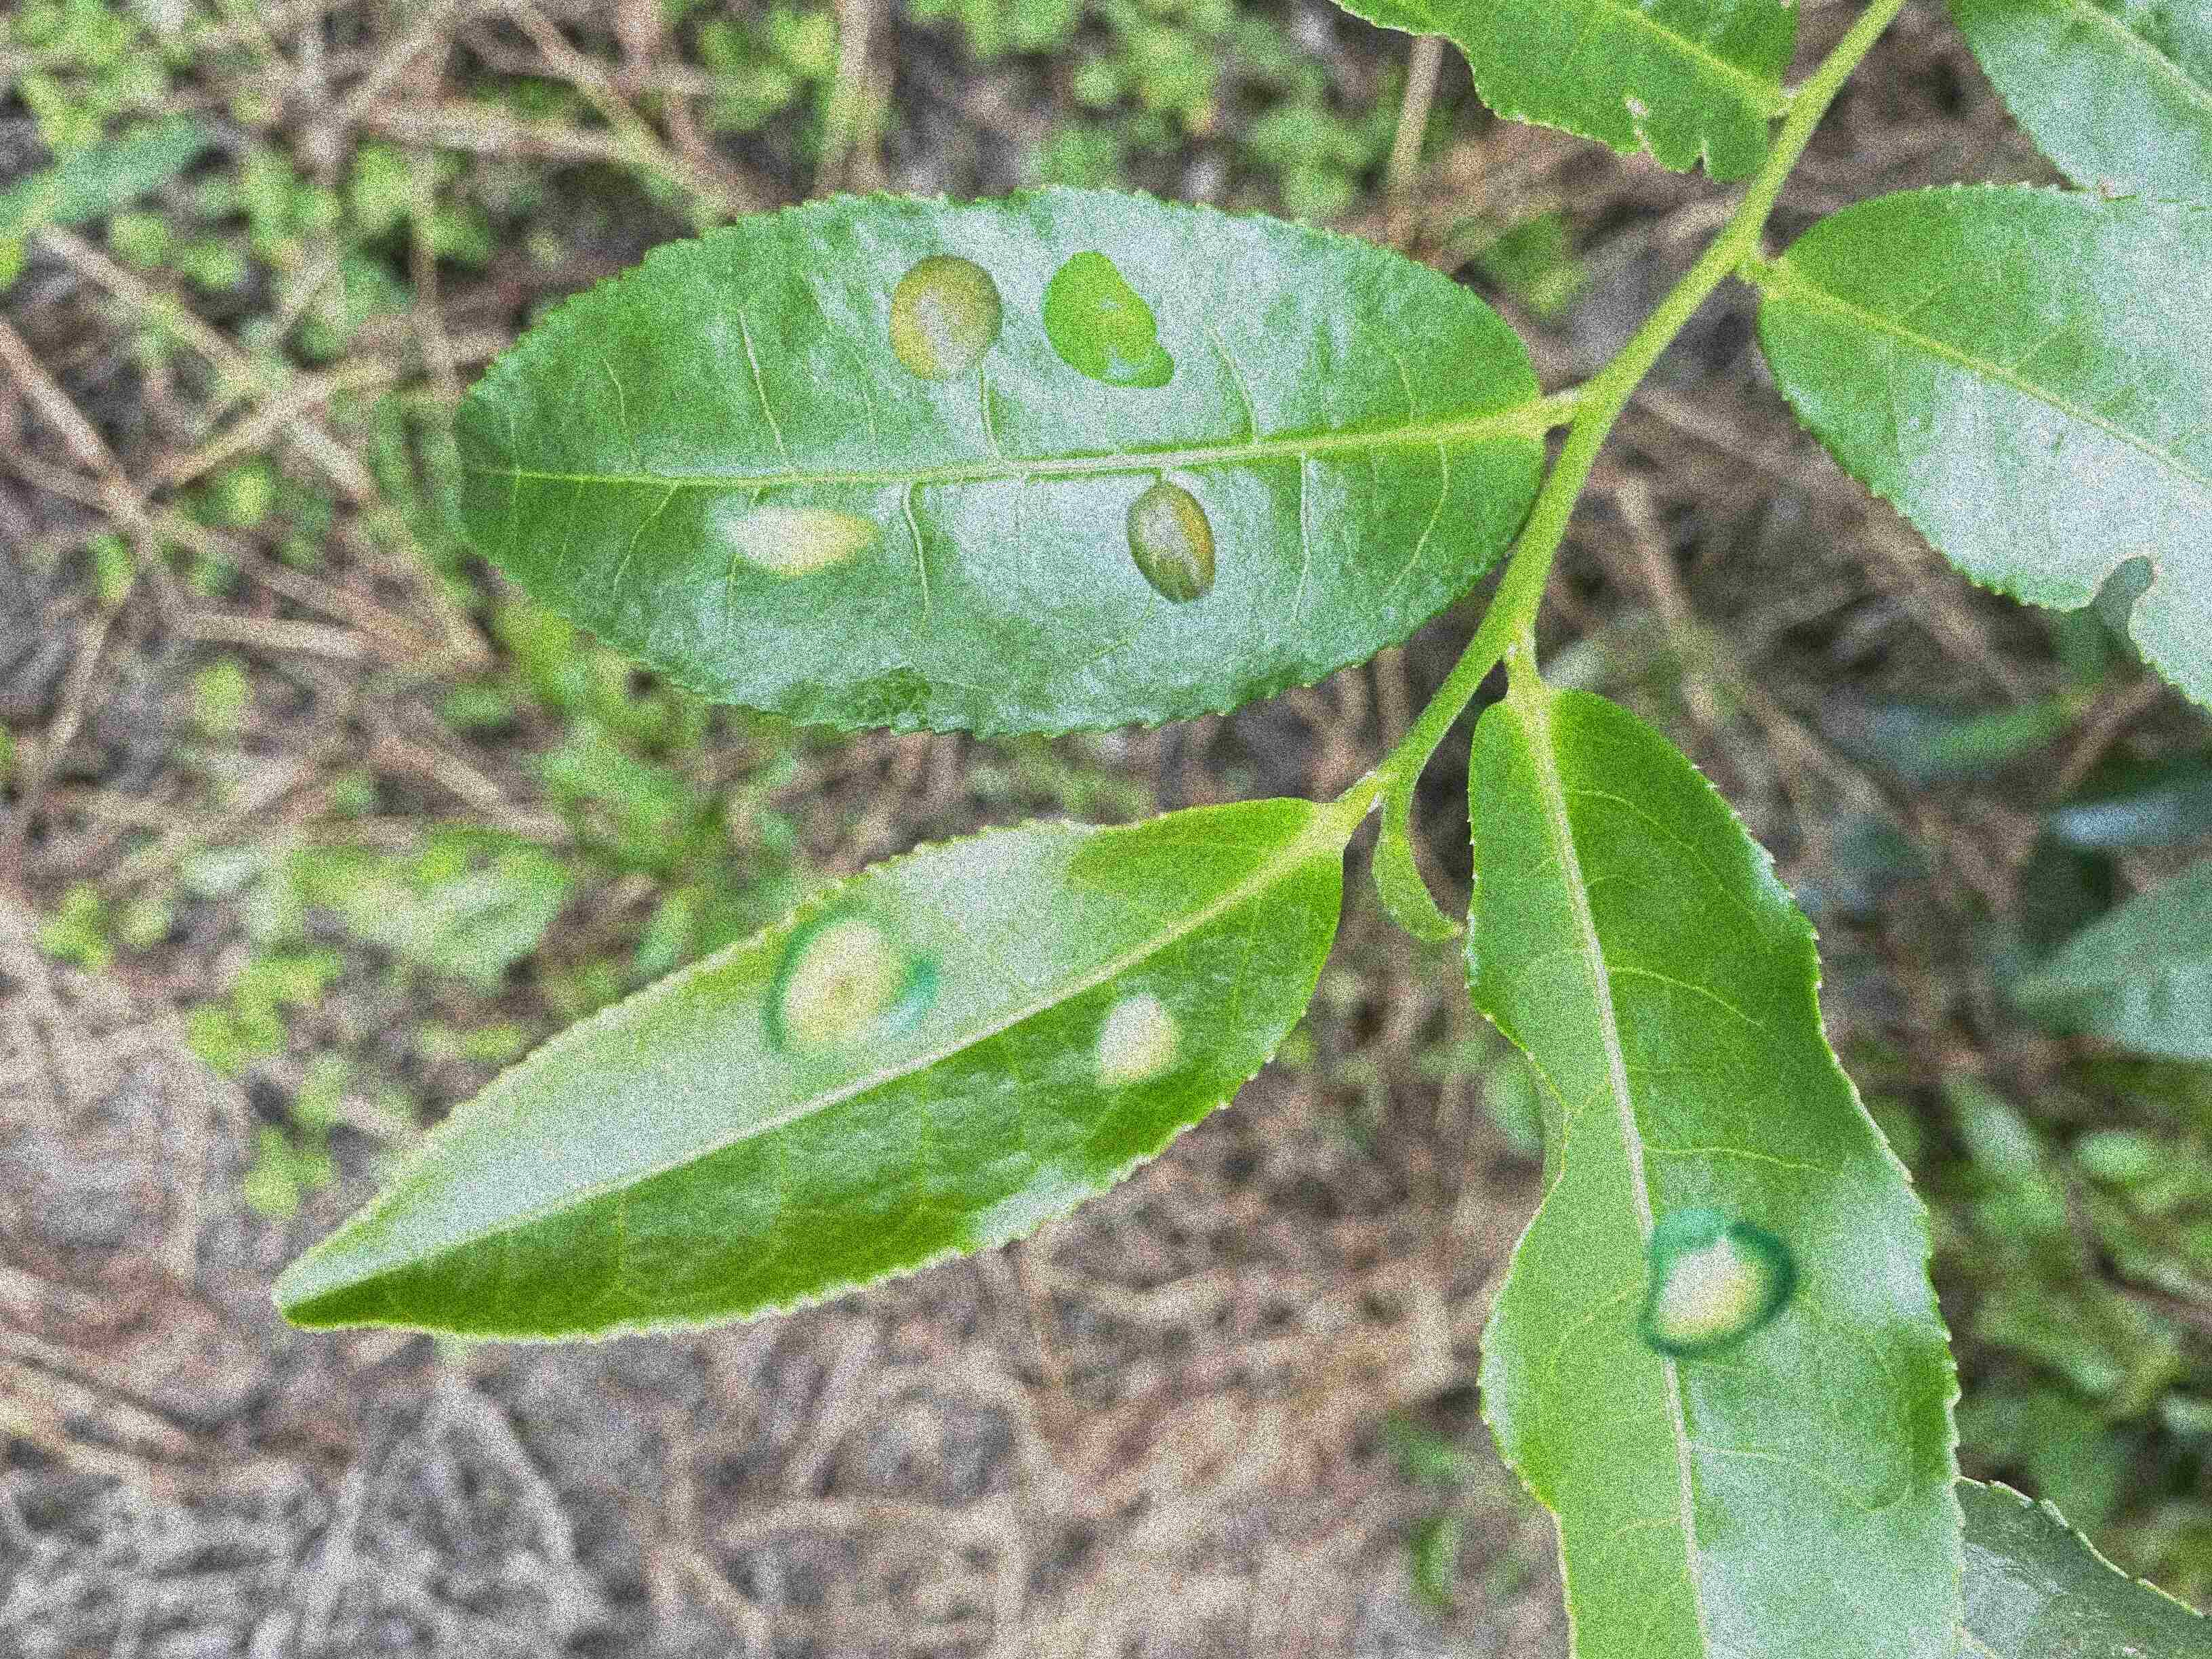chabing_high: (449, 178, 1545, 741), (272, 796, 1348, 1344)
chabing_low: (1465, 680, 1970, 1657)
chihuo_low: (1750, 178, 2207, 708)
